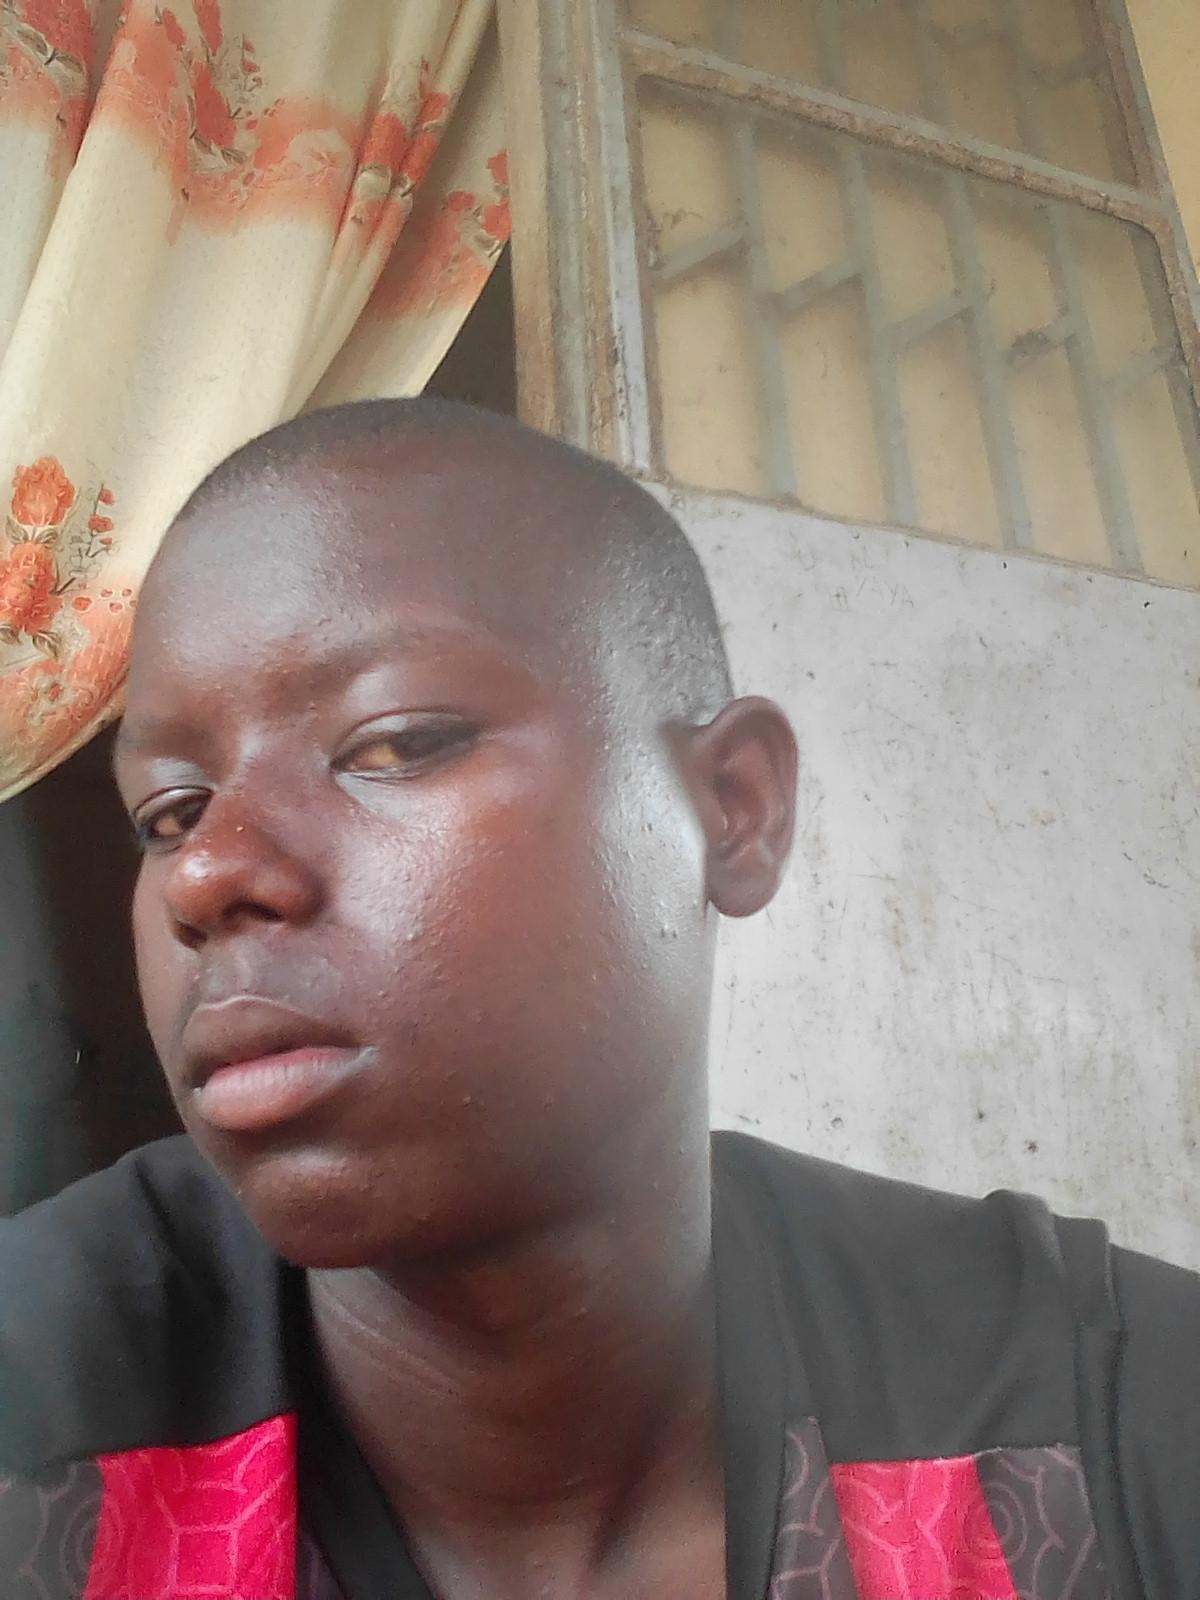Acne: (261, 637, 308, 680), (653, 920, 684, 945), (587, 643, 624, 663), (465, 1005, 494, 1031), (314, 949, 339, 970), (401, 925, 418, 949), (585, 968, 604, 986), (311, 614, 334, 629), (233, 819, 252, 837), (458, 1097, 480, 1110), (373, 985, 392, 1000), (190, 968, 207, 984), (398, 869, 415, 884), (391, 963, 403, 974)
